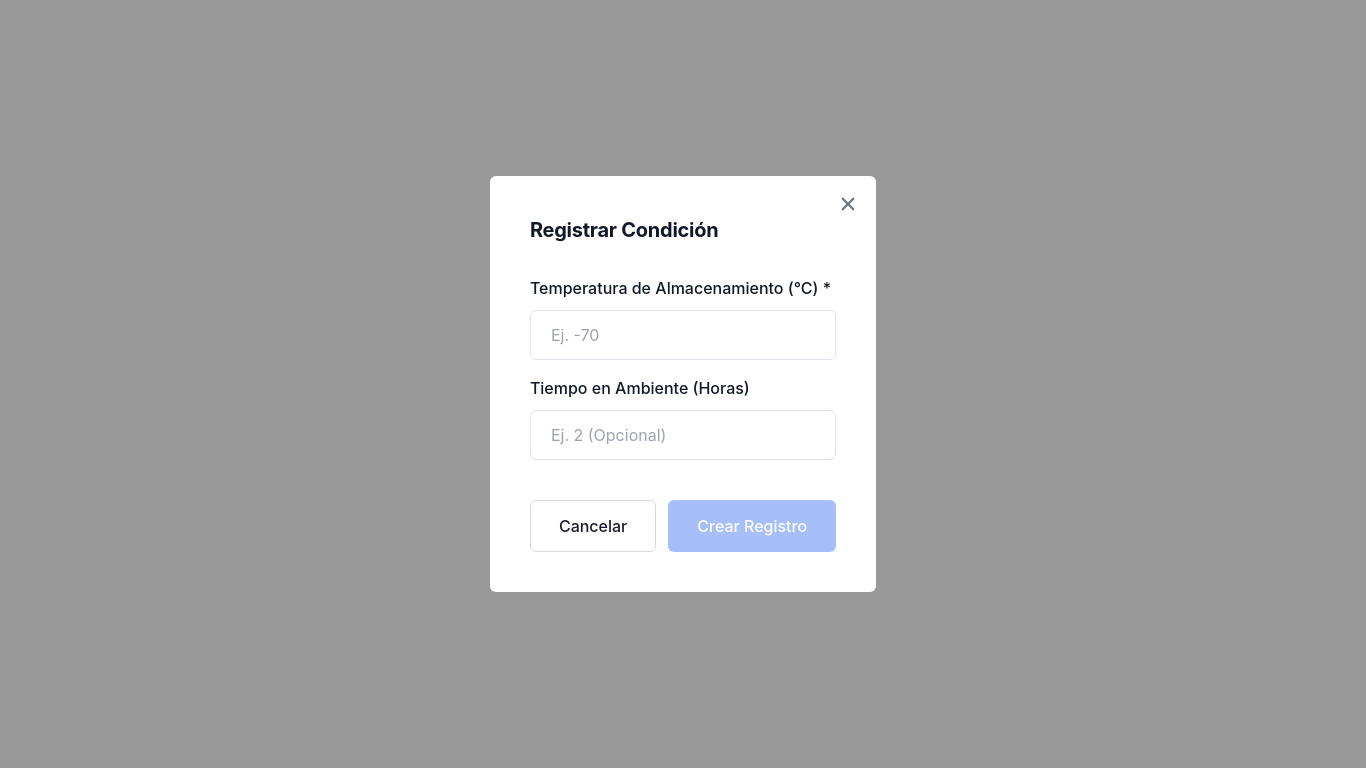
Test: Componente: RegistroDetalleModal › debe habilitar el botón de submit al escribir temperatura aunque tiempoAmbiente esté vacío
The image size is (1366, 768).
Type "-70" into the number field labelled "Temperatura de Almacenamiento (°C) *".
click(685, 335); type("-70")  # box [551,323,819,347]
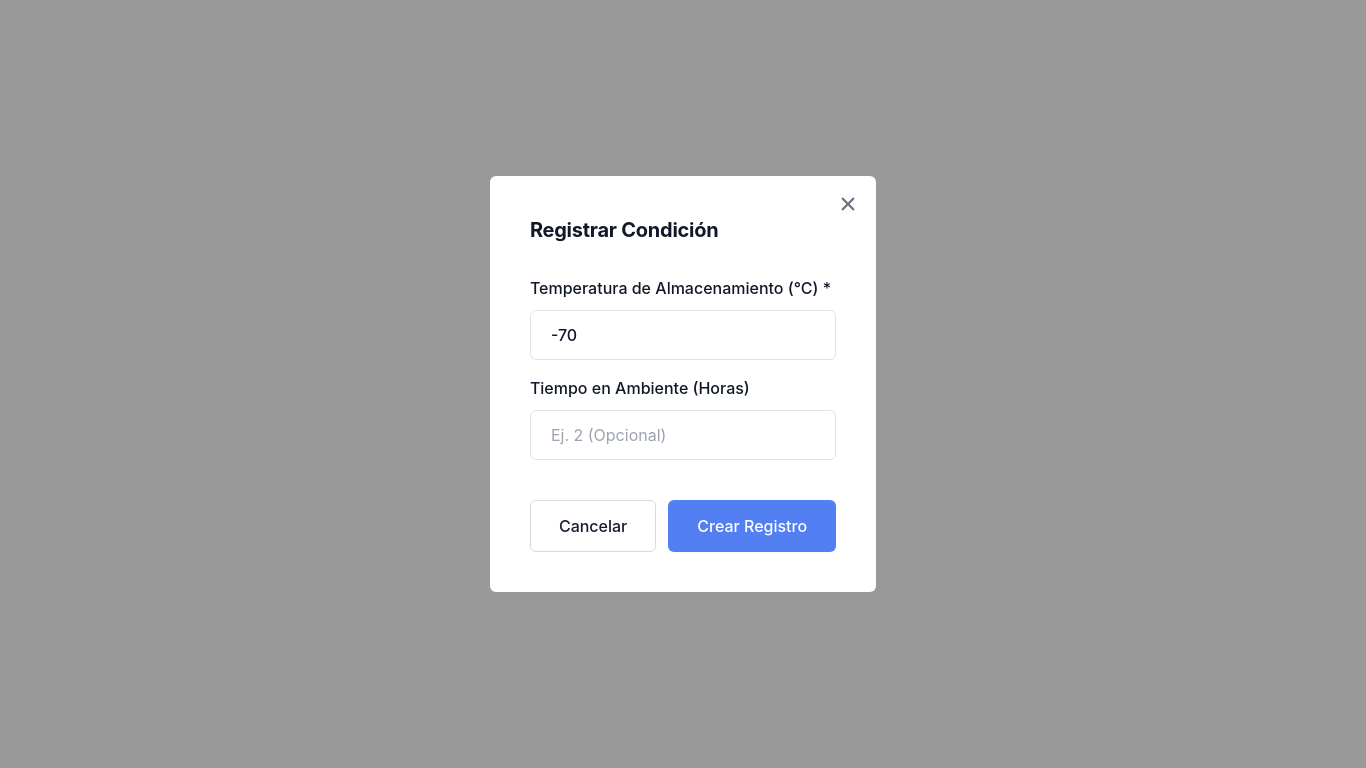
Result: the button "Crear Registro" is enabled at [668,500,836,552]
